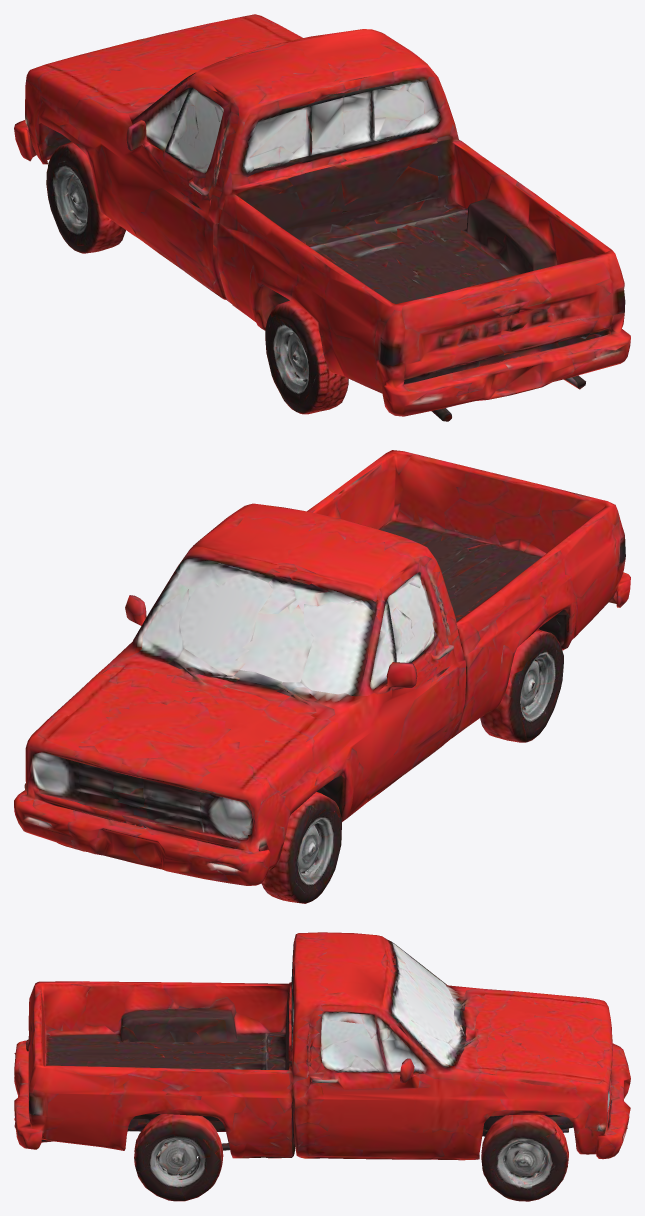
File: pickup.glb
3 renders of one model, top to bottom at view 1: azimuth 30°, elevation 25°; view 2: azimuth 150°, elevation 25°; view 3: azimuth 270°, elevation 25°, orthographic. The views are drawn at different scales.
Size of the model in its own units: 0.8111 by 0.6611 by 1.9.
1 material, 1 textured.
